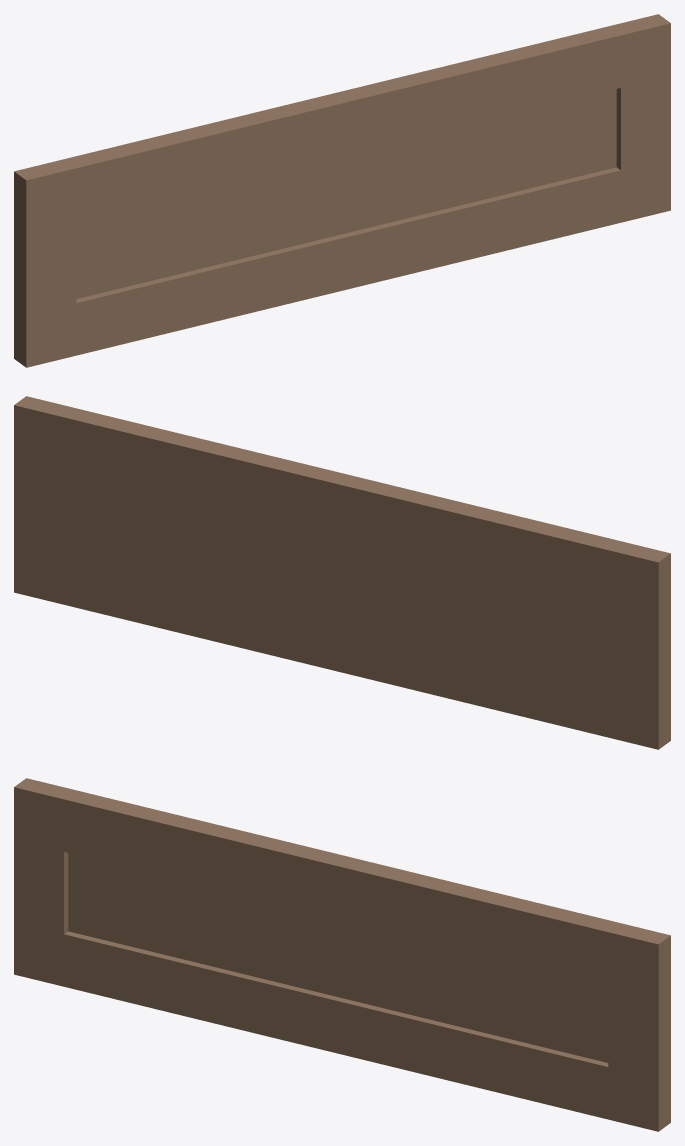
File: drawer_front_01.obj
3 renders of one model, top to bottom at view 1: azimuth 30°, elevation 25°; view 2: azimuth 150°, elevation 25°; view 3: azimuth 330°, elevation 25°, orthographic.
Visible parts, largest first — view 1: drawer_front_01; view 2: drawer_front_01; view 3: drawer_front_01.
Part boxes in pixels (bbox=[...]): drawer_front_01: bbox=[14, 14, 670, 367]; drawer_front_01: bbox=[14, 396, 670, 749]; drawer_front_01: bbox=[14, 778, 670, 1131].
Size of the model in its own units: 572 by 159 by 19.05.
